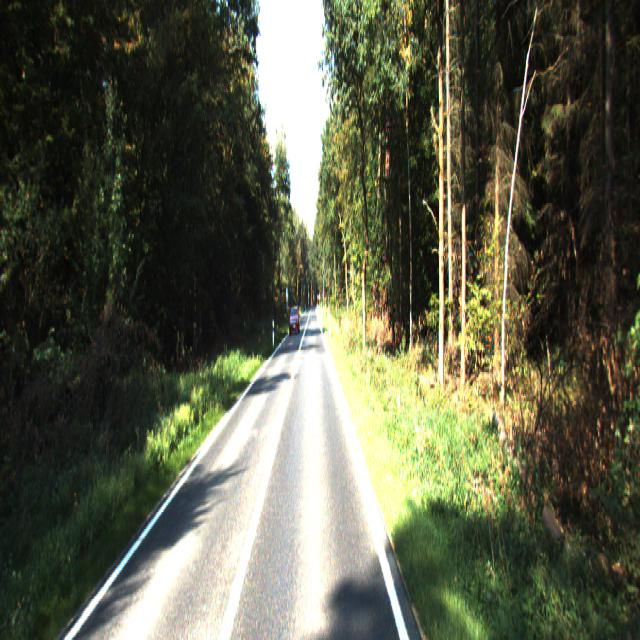Car: (288, 306, 300, 336)
